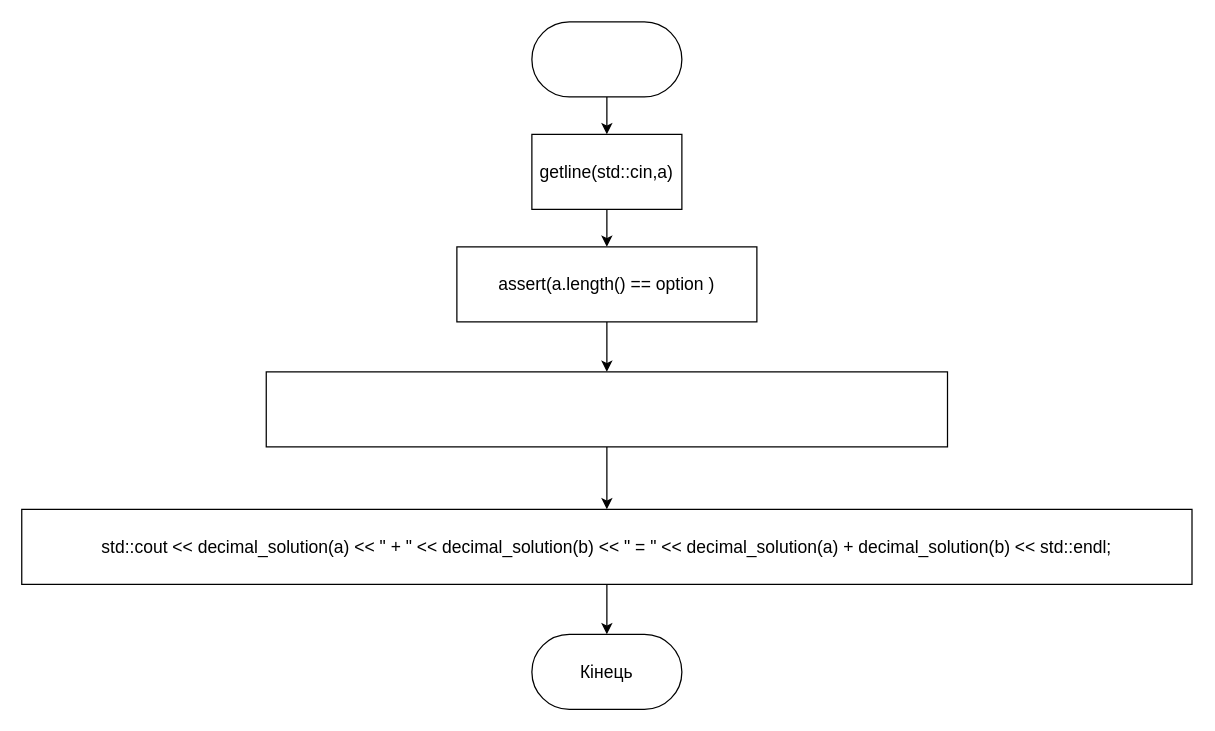
Image size: 1215x731. Some labels were removed from this diagram. Each missing label, with the box of its shape:
std::cout << a << " + " << b << " = " << binary_solution(a,b) << std::endl;: (265, 371, 948, 447)
Початок: (531, 21, 682, 97)
